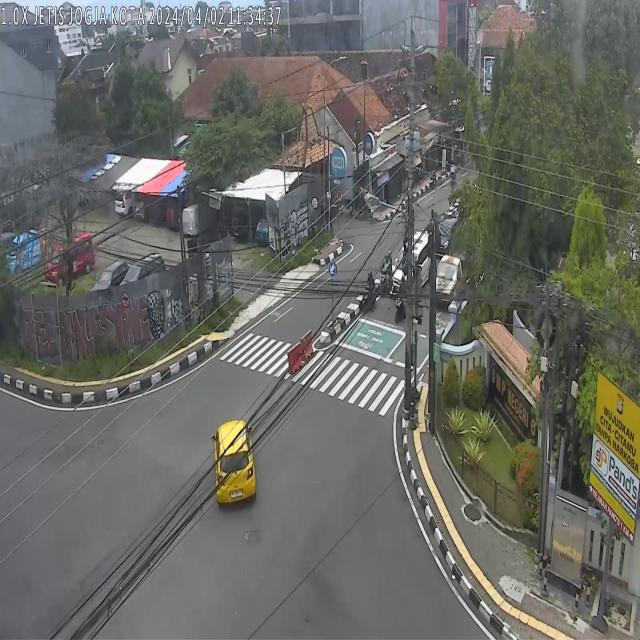car: (211, 418, 256, 506), (390, 232, 430, 293), (436, 253, 464, 306), (437, 214, 460, 256)
motorcycle: (362, 269, 376, 315), (380, 249, 393, 296), (395, 276, 407, 324)
